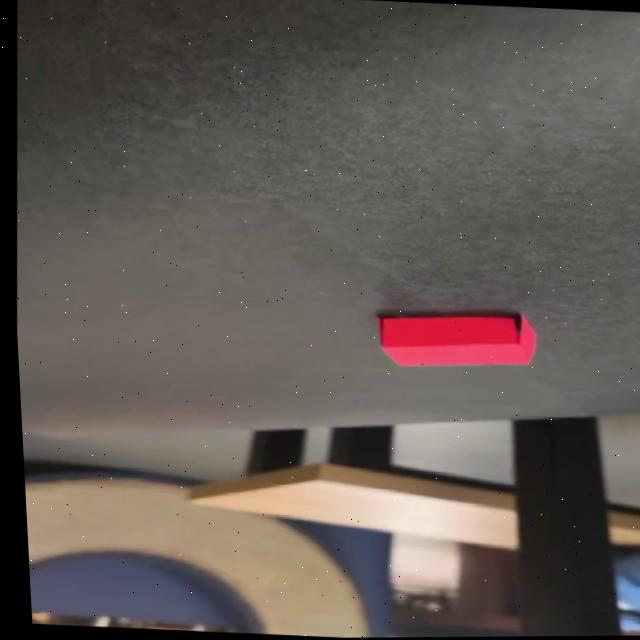red block: (372, 306, 538, 373)
